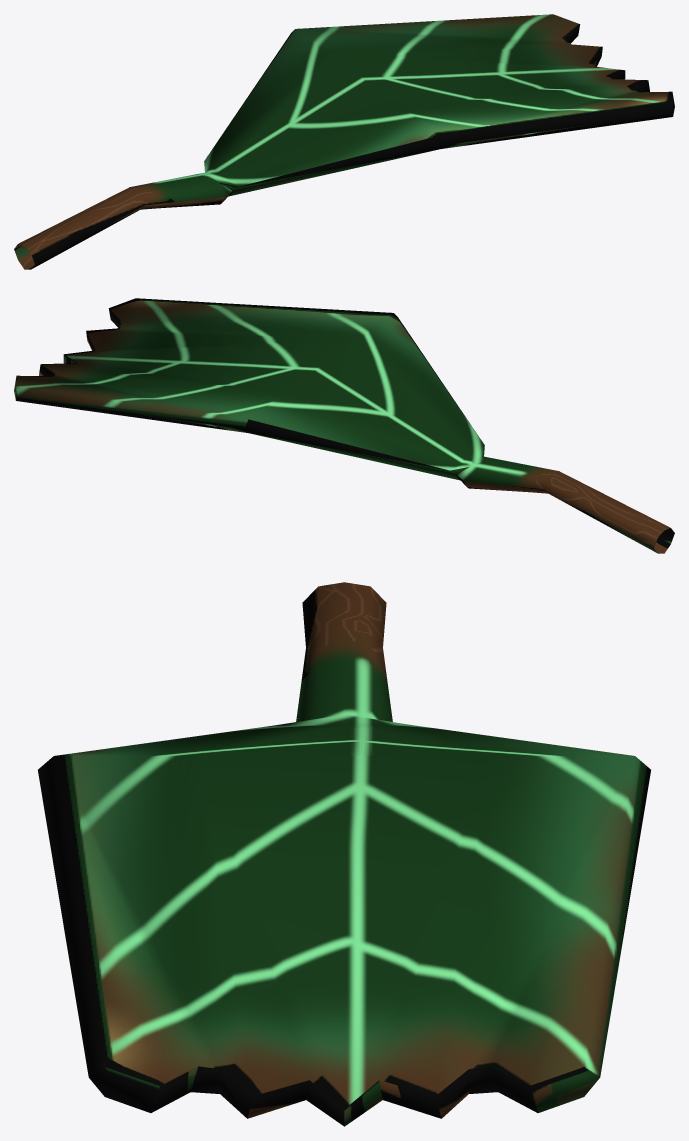
The model's file is Leaf-Large-3.fbx.
The picture shows the model from 3 angles, top to bottom: view 1: azimuth 30°, elevation 25°; view 2: azimuth 150°, elevation 25°; view 3: azimuth 270°, elevation 25°; orthographic projection. The views are drawn at different scales.
Parts seen in each view (by area): view 1: Leaf-Large-3.001; view 2: Leaf-Large-3.001; view 3: Leaf-Large-3.001.
Part boxes in pixels (left/top/right/bottom): Leaf-Large-3.001: left=14, top=14, right=674, bottom=269; Leaf-Large-3.001: left=14, top=298, right=674, bottom=553; Leaf-Large-3.001: left=38, top=582, right=650, bottom=1126.
Bounding box in the file's own units: 13.01 × 2.14 × 5.74.
